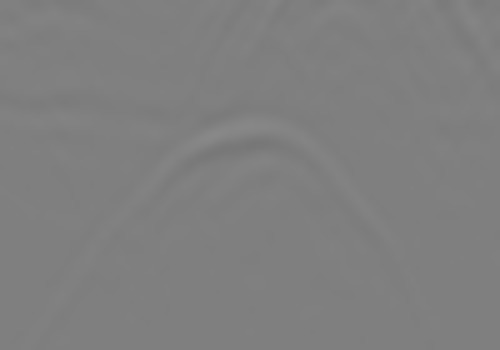hyperbola: (57, 108, 447, 350)
